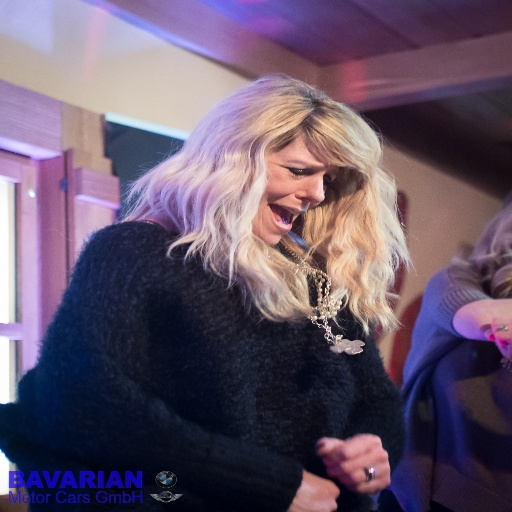hand: (319, 432, 392, 493), (287, 469, 340, 511)
